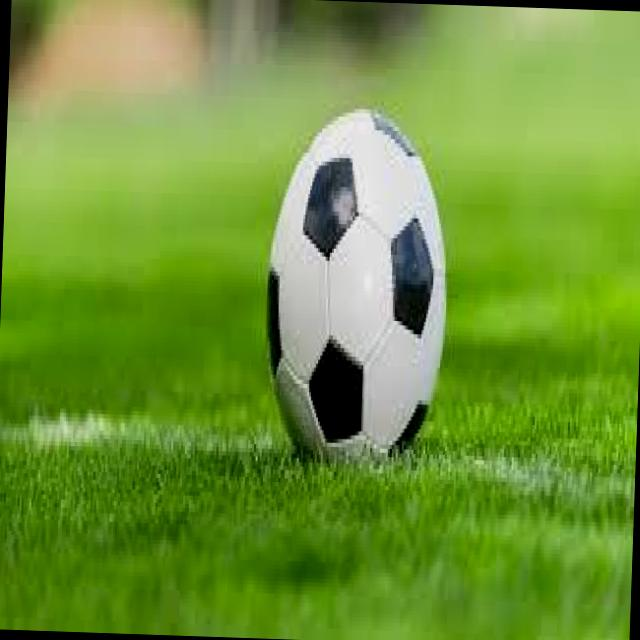Soccer Ball: (261, 106, 454, 467)
